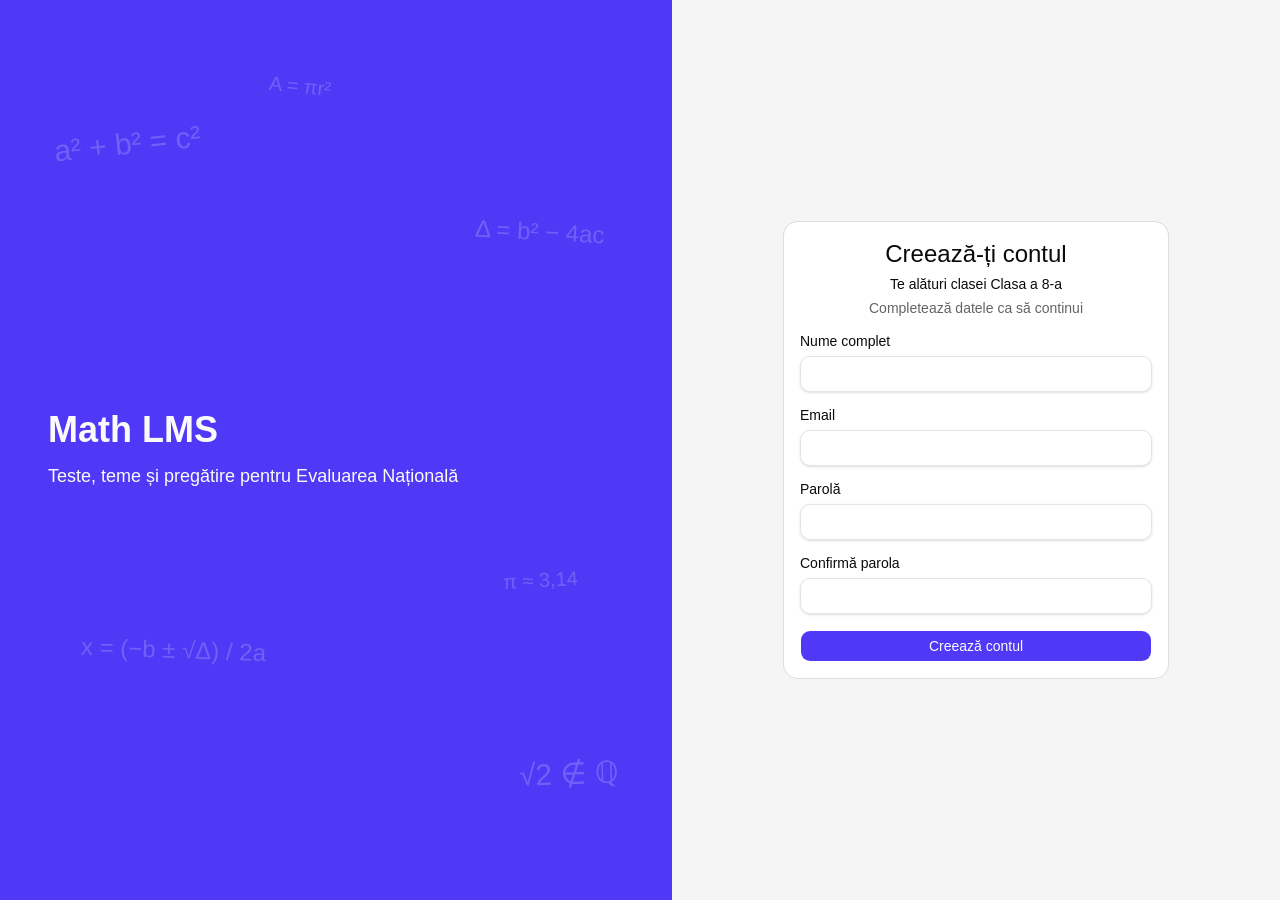
RegisterPage › shows why the link stopped working if it fills up while the form is open
Check: the text "Te alături clasei Clasa a 8-a" is shown, box [890,276,1062,292]
Type "Ana Pop" into the field labelled "Nume complet" at (976, 374), box [800,356,1152,392]
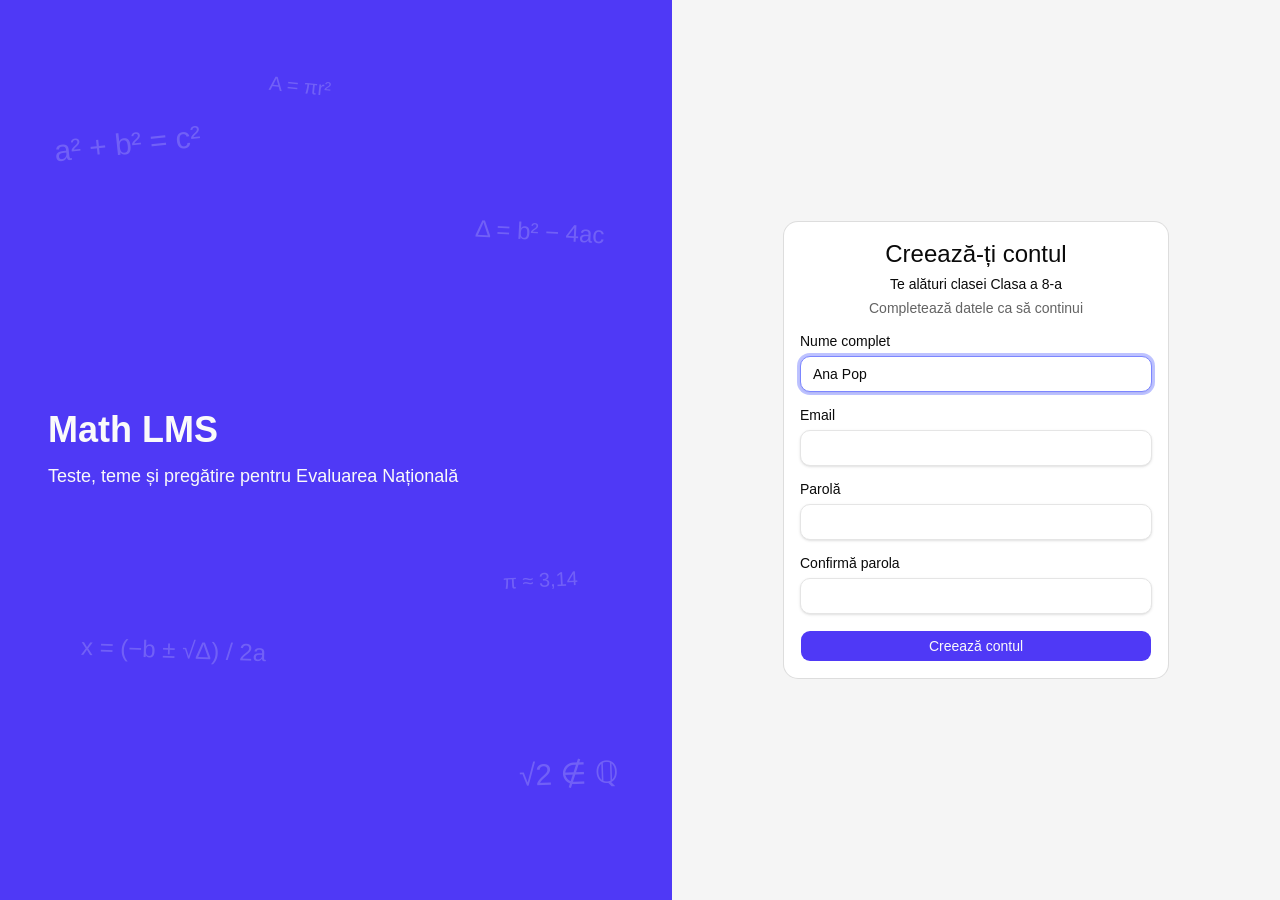
Type "ana@scoala.ro" into the field labelled "Email" at (976, 448), box [800,430,1152,466]
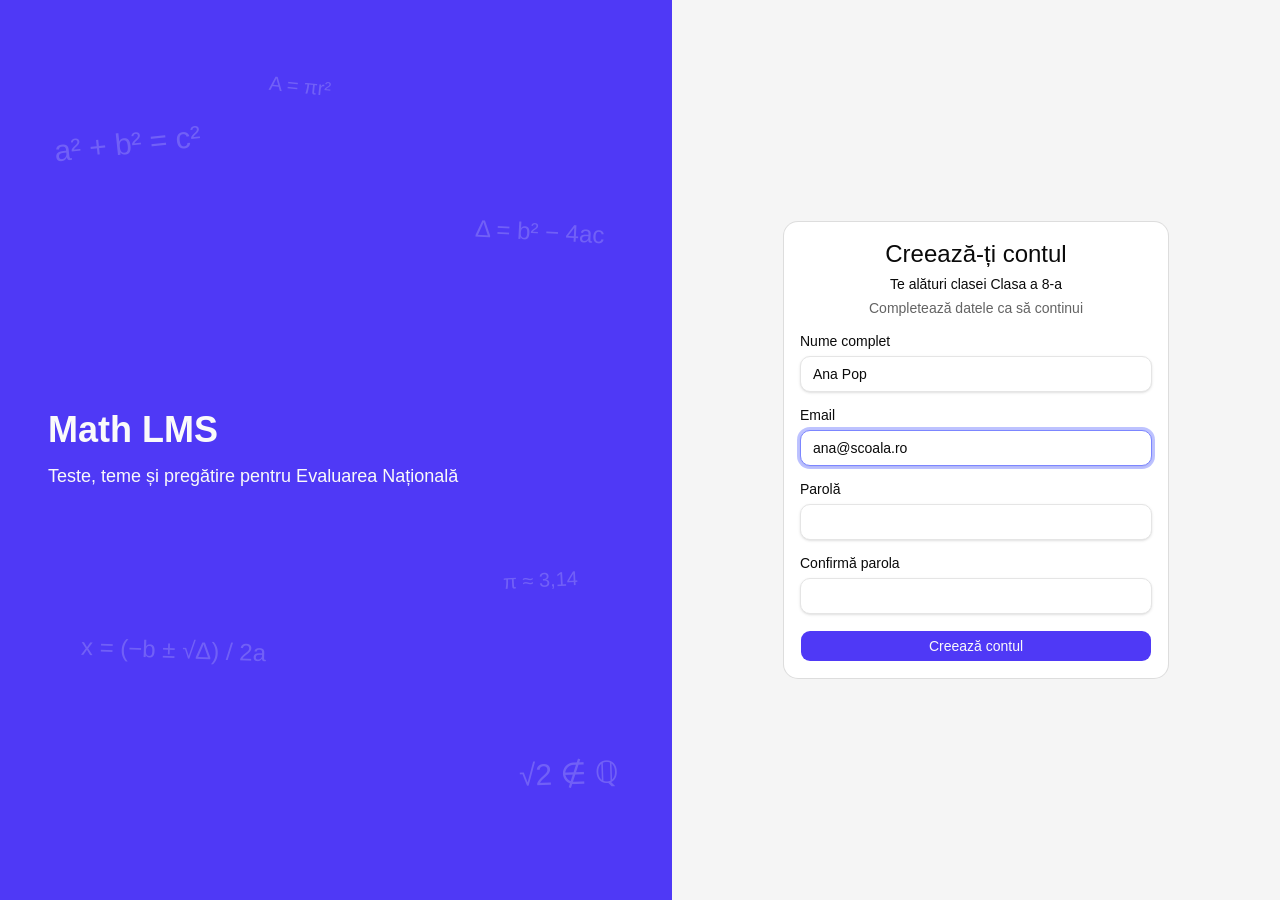
Type "parola123" into the password field labelled "Parolă" at (976, 522), box [800,504,1152,540]
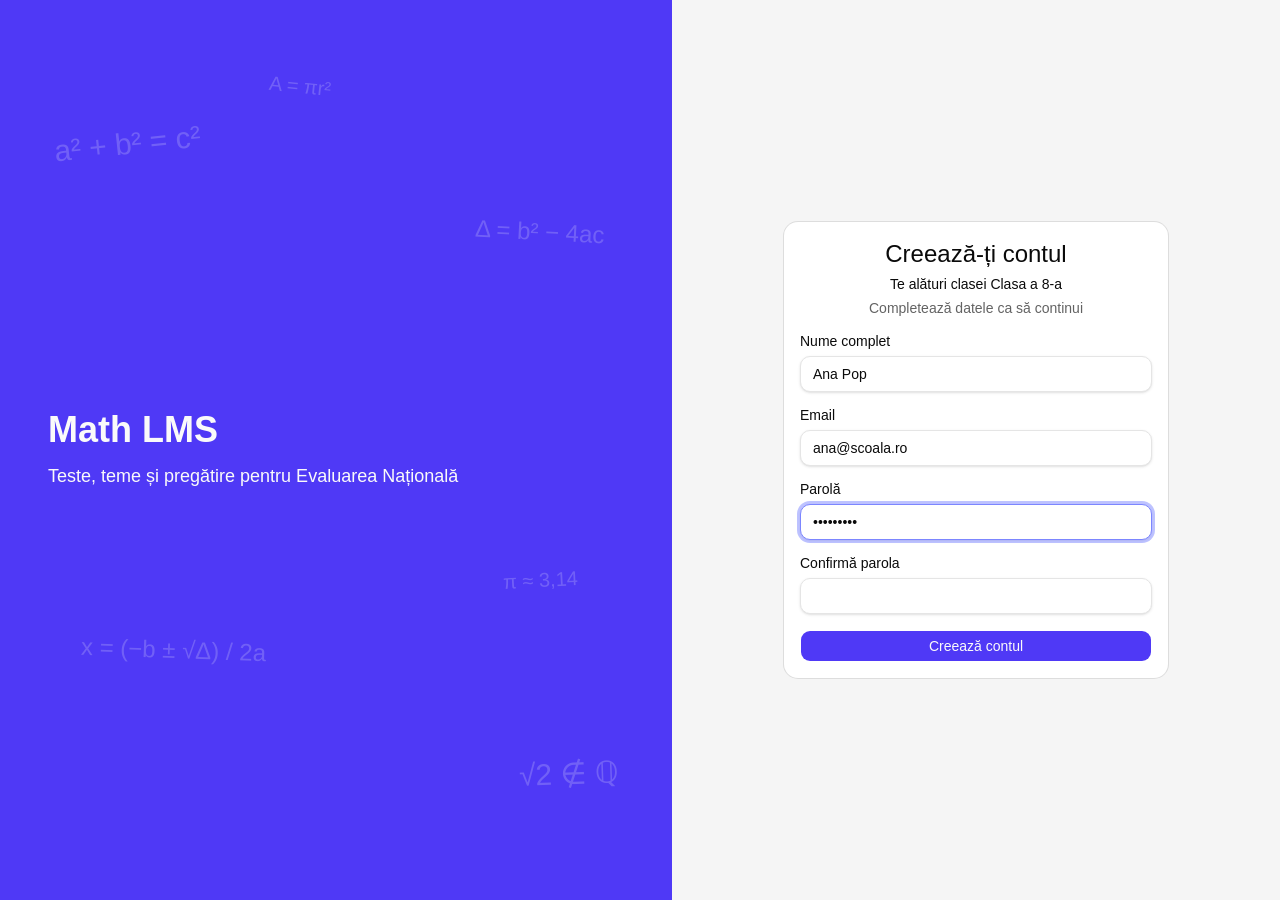
Type "parola123" into the password field labelled "Confirmă parola" at (976, 596), box [800,578,1152,614]
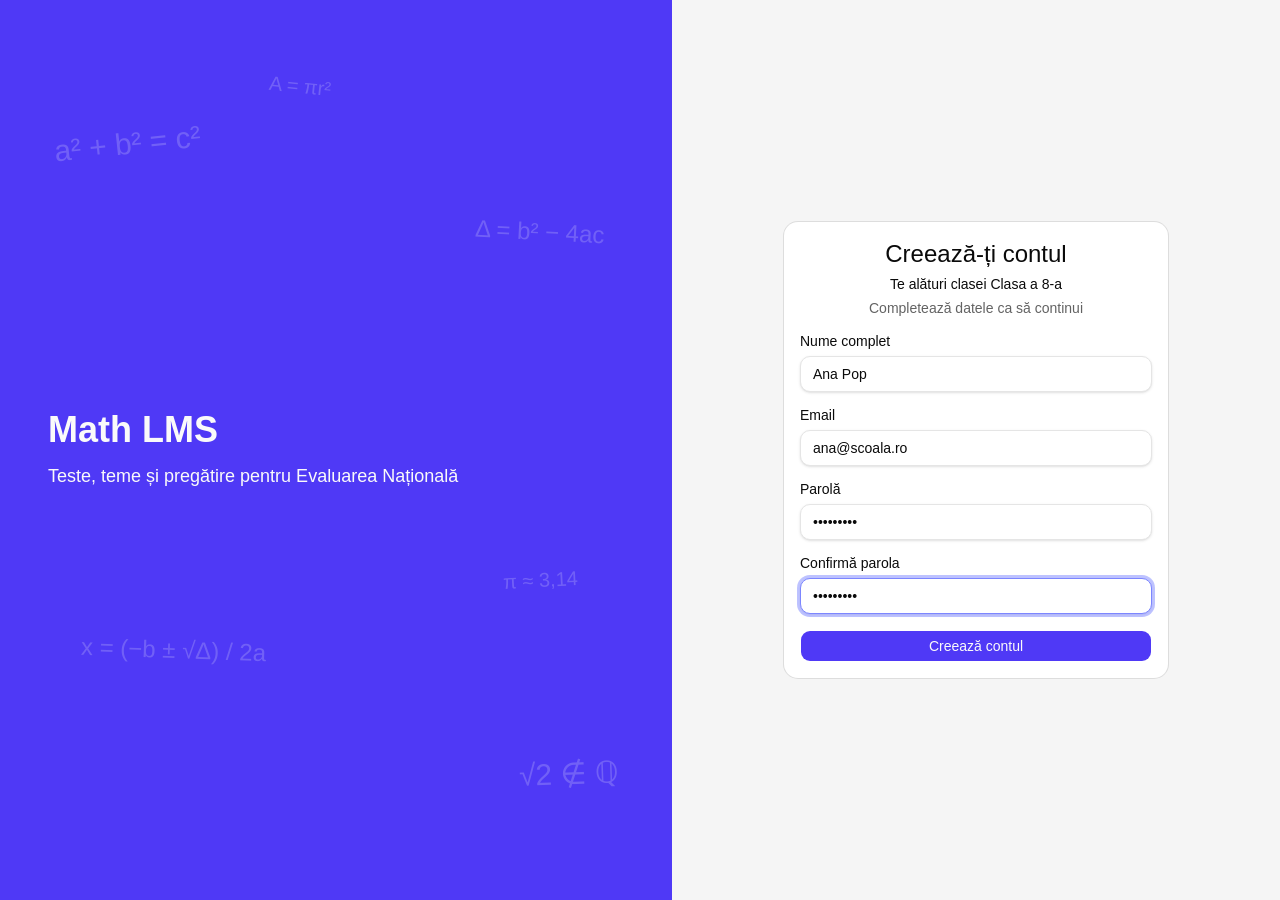
Click the button "Creează contul" at (976, 646), box [800,630,1152,662]
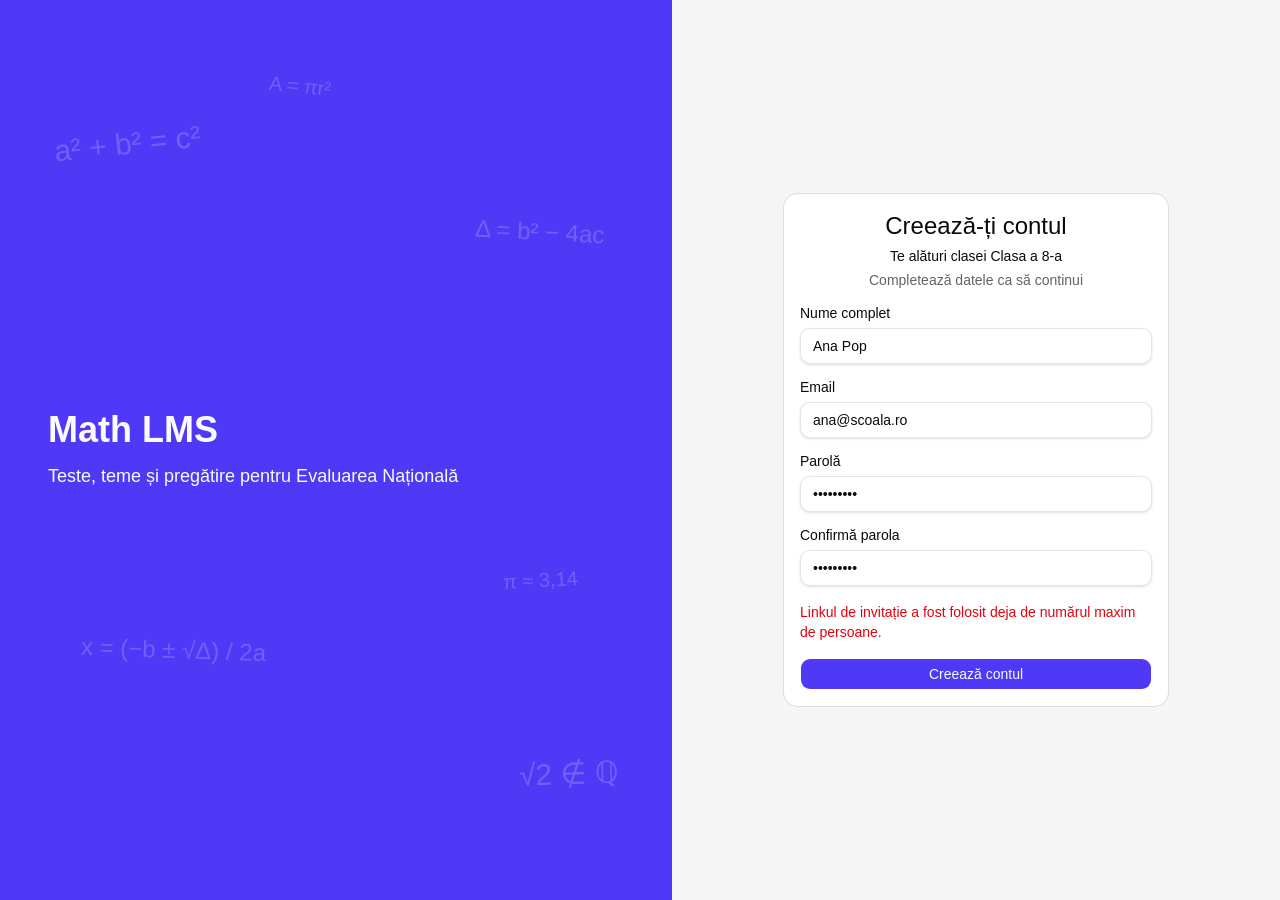
Check: the message shows "numărul maxim", box [800,604,1135,640]
